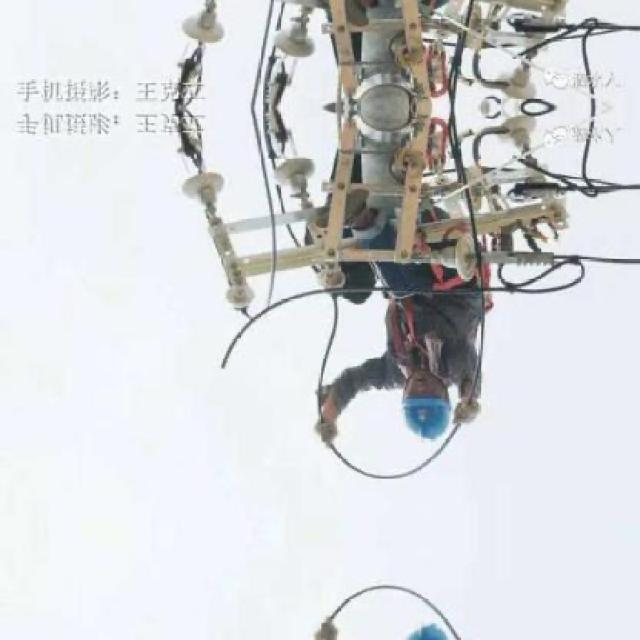con casco: (385, 342, 509, 458)
